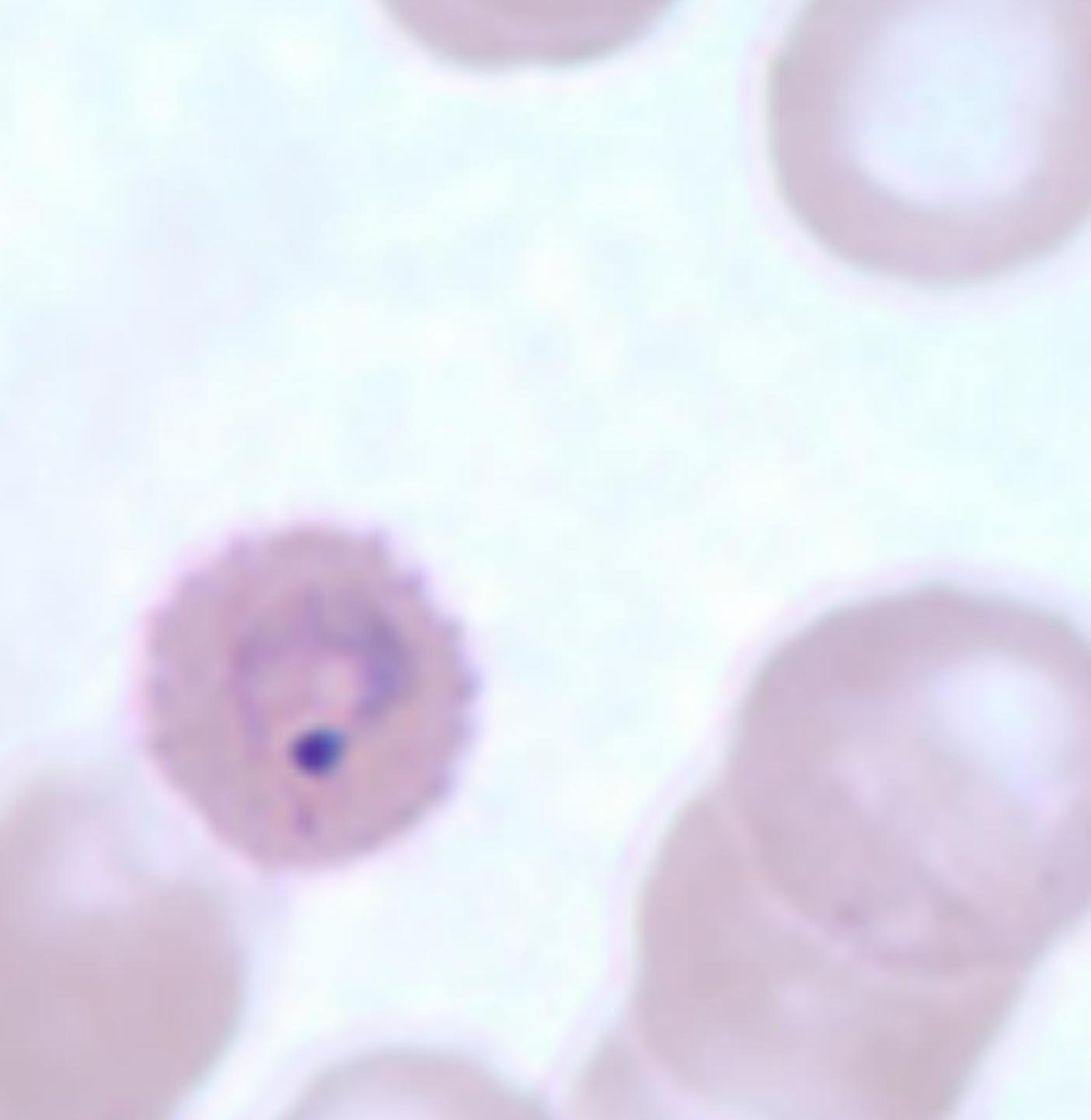Infected: (122, 517, 484, 869)
Uninfected: (731, 582, 1091, 976), (622, 766, 1014, 1120), (752, 0, 1091, 279), (0, 763, 256, 1120)
